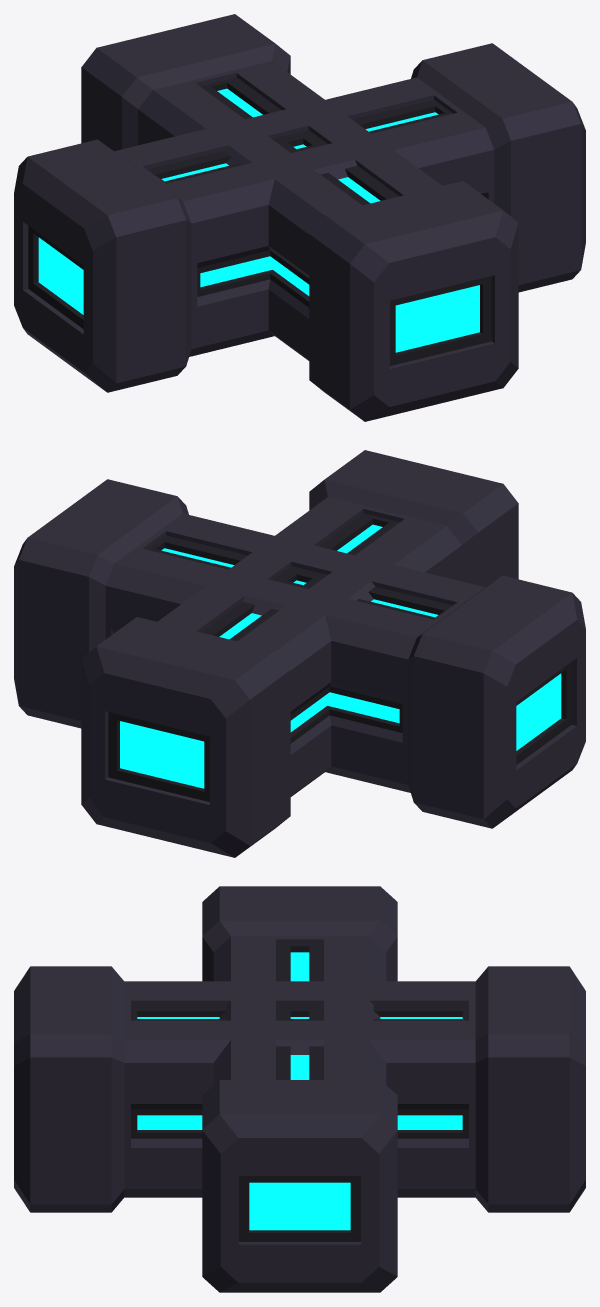
The model's file is SM_Tuyau_Croix.fbx.
3 views of the same model, one above another, from view 1: azimuth 30°, elevation 25°; view 2: azimuth 150°, elevation 25°; view 3: azimuth 270°, elevation 25° (orthographic).
Parts seen in each view (by area): view 1: Tuyau_Croix; view 2: Tuyau_Croix; view 3: Tuyau_Croix.
Part boxes in pixels (bbox=[...]): Tuyau_Croix: bbox=[14, 14, 585, 421]; Tuyau_Croix: bbox=[14, 450, 585, 857]; Tuyau_Croix: bbox=[14, 886, 585, 1292].
Size of the model in its own units: 87.79 by 30.23 by 87.79.
